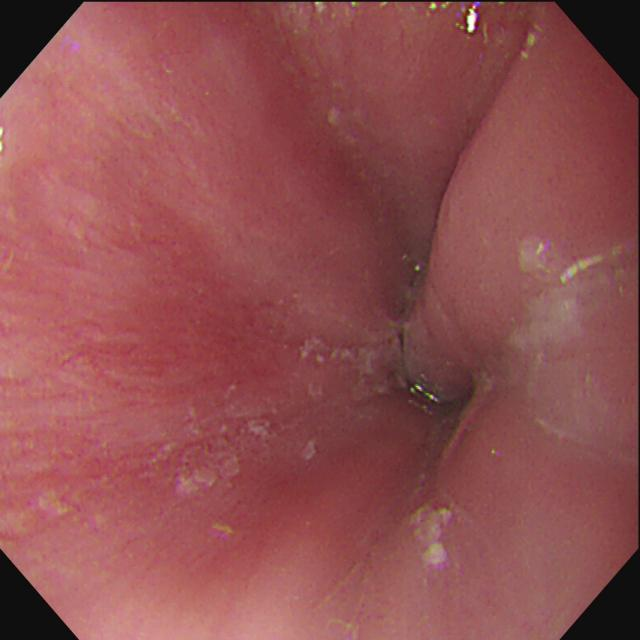J: (505, 236, 604, 439), (156, 408, 318, 497), (298, 335, 409, 400), (411, 504, 453, 571)
U: (411, 505, 453, 557), (563, 254, 603, 285), (456, 2, 481, 35), (412, 385, 440, 406)
